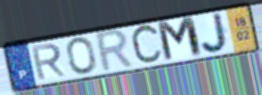C: (129, 22, 165, 68)
J: (199, 10, 231, 55)
M: (154, 15, 206, 65)
O: (65, 36, 99, 76)
R: (94, 27, 137, 75), (29, 42, 68, 82)
